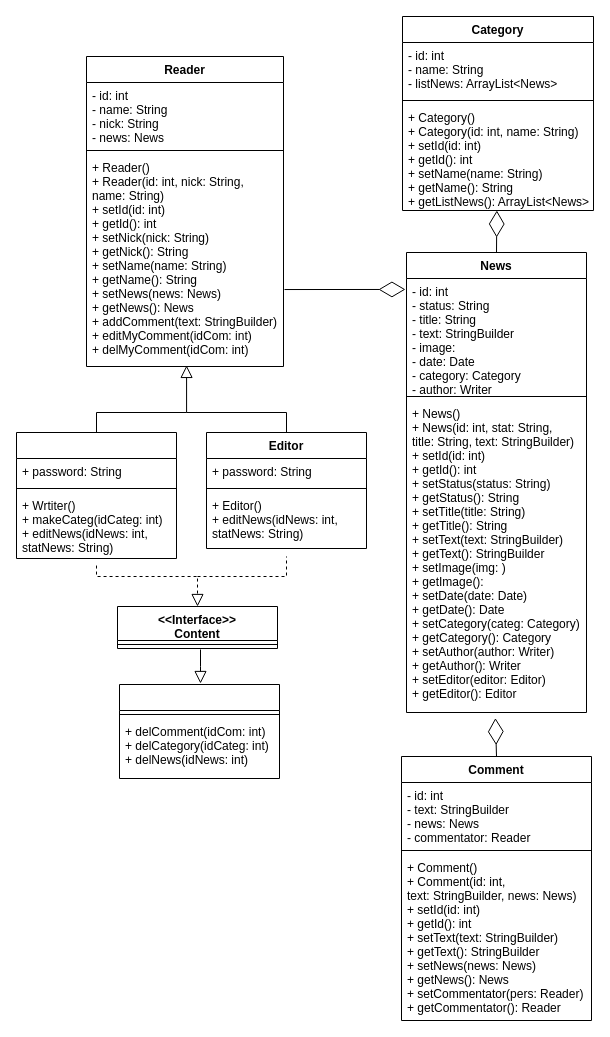
The diagram is 610 pixels wide and 1037 high, and some of its shapes have lost their labels. Each missing label, with the box of its shape:
Admin: (118, 684, 280, 778)
Writer: (16, 432, 176, 558)
